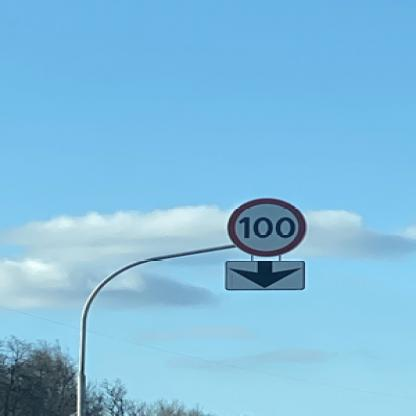speedlimit: (224, 196, 306, 256)
